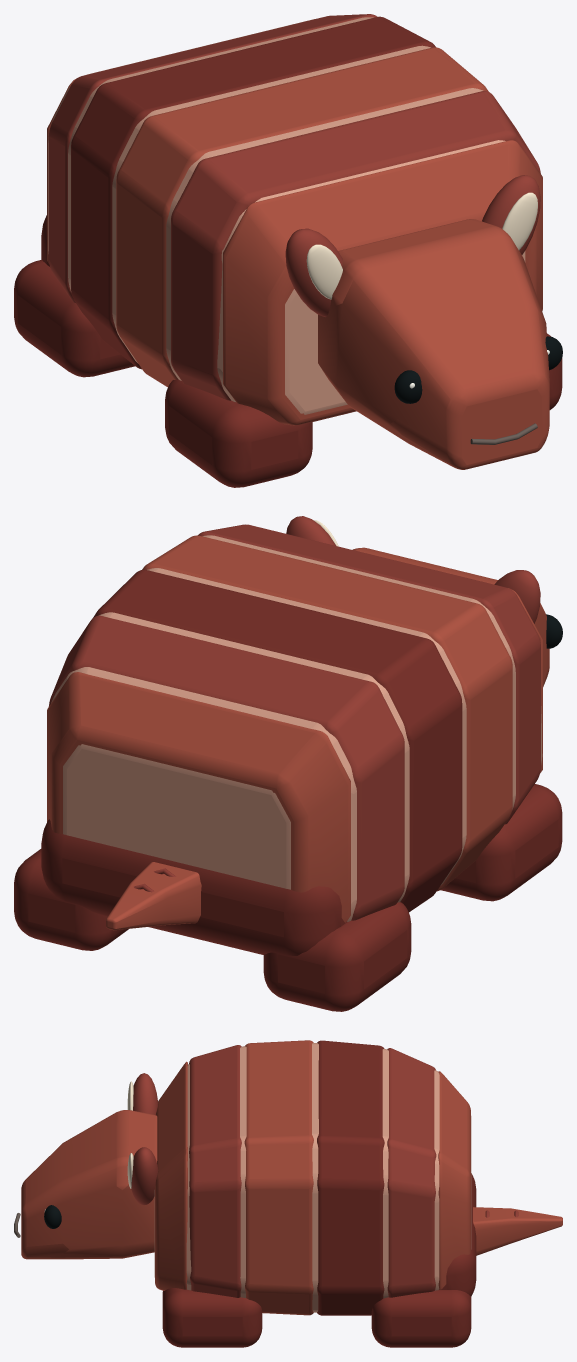
File: armadillo.glb
The picture shows the model from 3 angles, top to bottom: view 1: azimuth 30°, elevation 25°; view 2: azimuth 150°, elevation 25°; view 3: azimuth 270°, elevation 25°; orthographic projection. The views are drawn at different scales.
Visible parts, largest first — view 1: Tapered cheek and wedge snout, Fitted armor band 00, Fitted armor band 02, Fitted armor band 01, Fitted armor band 03, Pale clay beneath armor, Tucked foot, Fitted armor band 04, Tucked foot.001, Upturned ear, Upturned ear.001, Cream ear interior (+2 smaller); view 2: Pale clay beneath armor, Fitted armor band 03, Fitted armor band 05, Fitted armor band 04, Fitted armor band 02, Rounded low belly, Fitted armor band 01, Tucked foot.001, Tucked foot, Tucked foot.003, Tapered tail, Tapered cheek and wedge snout (+2 smaller); view 3: Fitted armor band 02, Fitted armor band 03, Tapered cheek and wedge snout, Fitted armor band 01, Fitted armor band 04, Pale clay beneath armor, Fitted armor band 00, Fitted armor band 05, Tucked foot.002, Tucked foot.003, Tapered tail, Rounded low belly (+2 smaller).
Part boxes in pixels (x1,y1,x2,y2): Tapered cheek and wedge snout: [318, 219, 549, 469]; Fitted armor band 00: [223, 140, 542, 425]; Fitted armor band 02: [116, 47, 488, 387]; Fitted armor band 01: [171, 91, 540, 400]; Fitted armor band 03: [71, 16, 435, 369]; Pale clay beneath armor: [48, 17, 525, 414]; Tucked foot: [165, 379, 312, 487]; Fitted armor band 04: [48, 14, 377, 302]; Tucked foot.001: [14, 260, 134, 377]; Upturned ear: [285, 228, 342, 316]; Upturned ear.001: [482, 175, 540, 254]; Cream ear interior: [306, 244, 342, 299]; Pale clay beneath armor: [51, 535, 542, 921]; Fitted armor band 03: [93, 569, 462, 912]; Fitted armor band 05: [47, 672, 350, 922]; Fitted armor band 04: [48, 615, 404, 920]; Fitted armor band 02: [142, 535, 512, 891]; Rounded low belly: [41, 819, 346, 955]; Fitted armor band 01: [198, 524, 540, 824]; Tucked foot.001: [263, 902, 411, 1011]; Tucked foot: [440, 784, 562, 901]; Tucked foot.003: [14, 849, 128, 950]; Tapered tail: [106, 862, 201, 930]; Tapered cheek and wedge snout: [352, 547, 549, 686]; Fitted armor band 02: [244, 1040, 313, 1315]; Fitted armor band 03: [317, 1040, 384, 1315]; Tapered cheek and wedge snout: [21, 1110, 157, 1259]; Fitted armor band 01: [189, 1045, 241, 1297]; Fitted armor band 04: [387, 1048, 436, 1297]; Pale clay beneath armor: [154, 1043, 471, 1312]; Fitted armor band 00: [155, 1061, 187, 1290]; Fitted armor band 05: [438, 1071, 470, 1289]; Tucked foot.002: [162, 1288, 262, 1347]; Tucked foot.003: [371, 1290, 471, 1347]; Tapered tail: [473, 1207, 562, 1255]; Rounded low belly: [439, 1173, 476, 1296].
Bounding box in the file's own units: 1.58 × 1.28 × 3.07.
